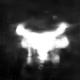plane: (11, 20, 73, 67)
